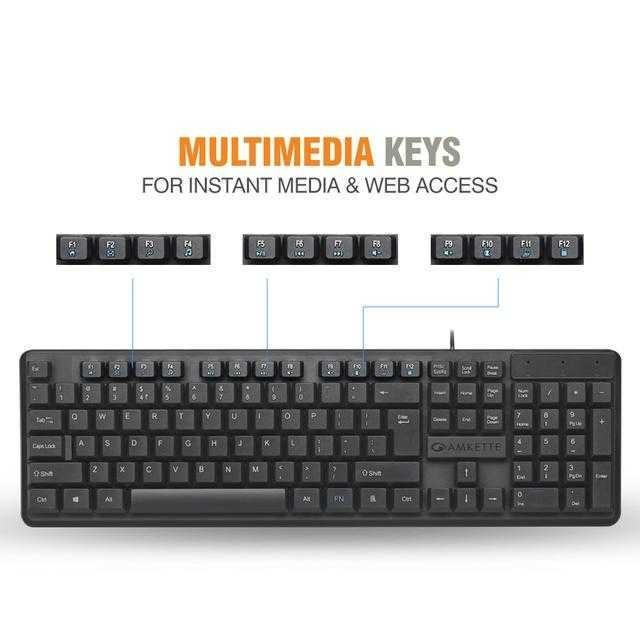keyboard: (17, 346, 627, 532)
